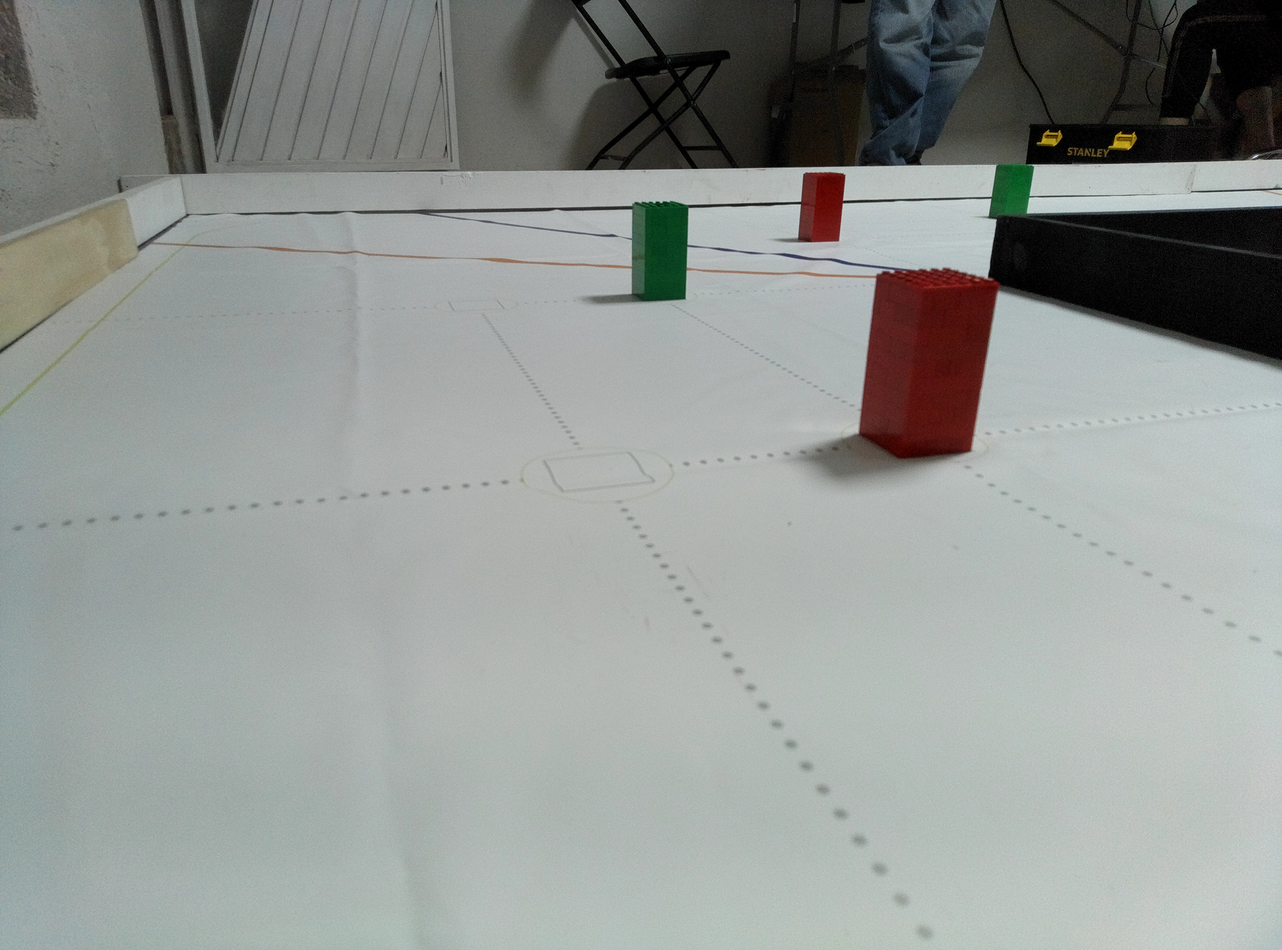greenbox: (637, 199, 689, 303), (987, 164, 1035, 218)
redbox: (855, 267, 1002, 462), (796, 172, 846, 244)
